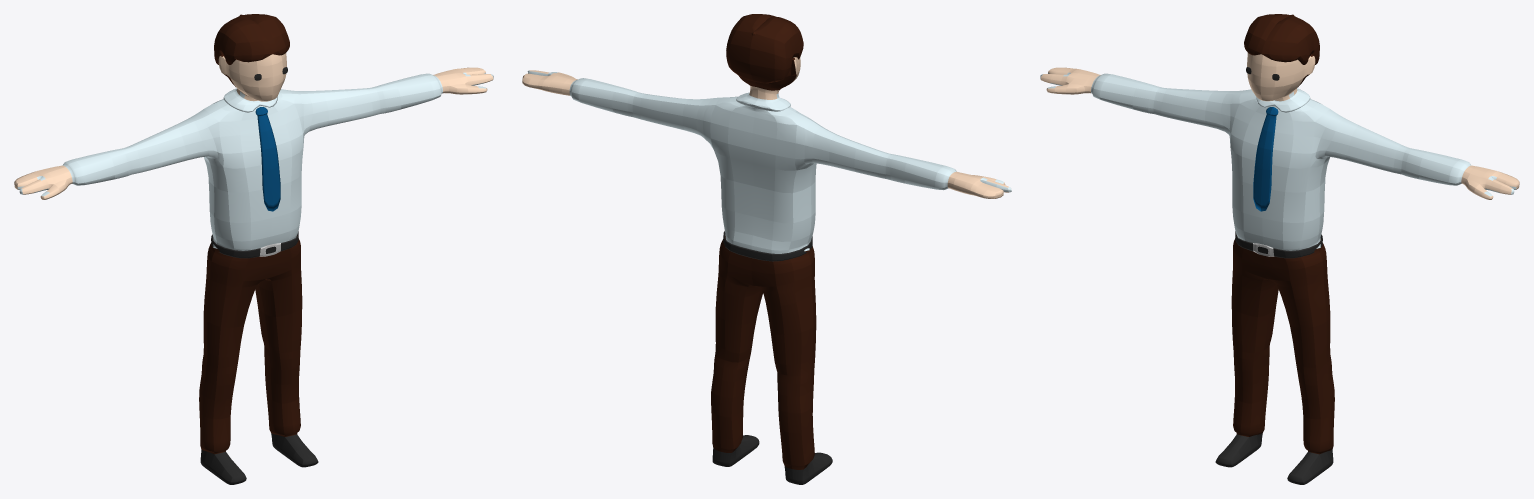
The model's file is Characterv0_buisess_man_mid.fbx.
The picture shows the model from 3 angles, left to right: view 1: azimuth 30°, elevation 25°; view 2: azimuth 150°, elevation 25°; view 3: azimuth 330°, elevation 25°; orthographic projection. The views are drawn at different scales.
Visible parts, largest first — view 1: BODY; view 2: BODY; view 3: BODY.
Part boxes in pixels (bbox=[...]): BODY: bbox=[14, 14, 493, 484]; BODY: bbox=[522, 14, 1011, 484]; BODY: bbox=[1040, 14, 1519, 484].
Size of the model in its own units: 20263 by 18070 by 2871.
Materials: 1 (1 with a texture image).
